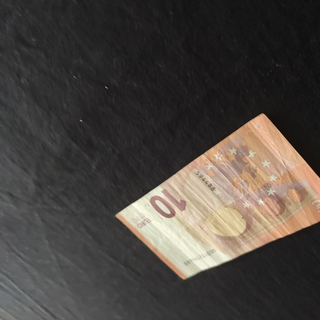10EUROBack: (113, 111, 320, 279)
